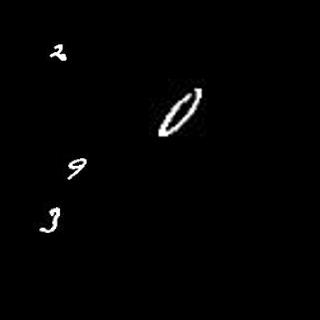nine: (65, 156, 89, 182)
three: (40, 205, 61, 235)
two: (48, 40, 69, 62)
zero: (158, 85, 206, 138)
